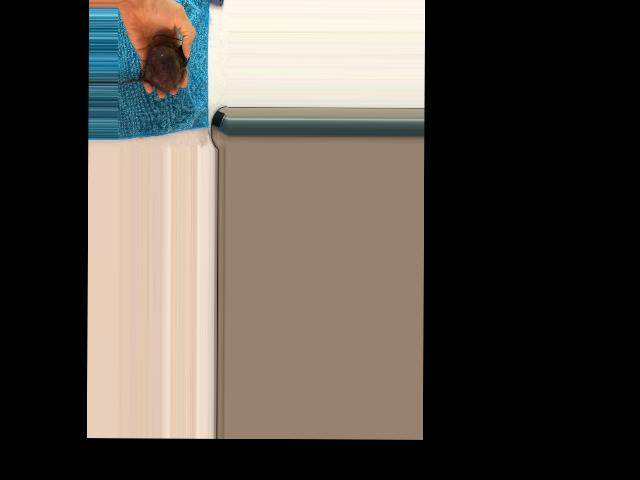beet: (116, 35, 189, 91)
